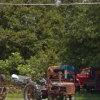Tractor: (19, 62, 86, 100)
